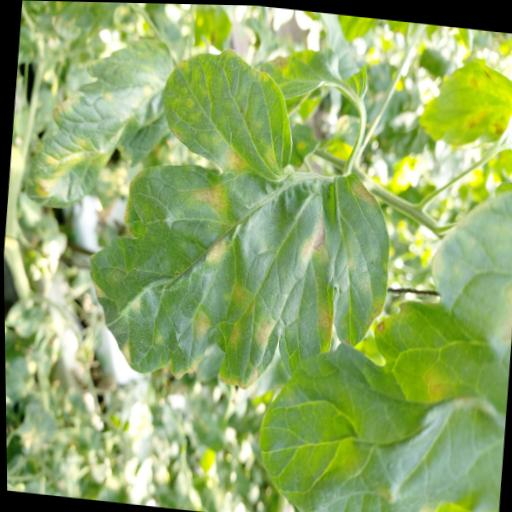Leaf Mold: (75, 34, 405, 401), (247, 244, 512, 512), (20, 25, 170, 220)
